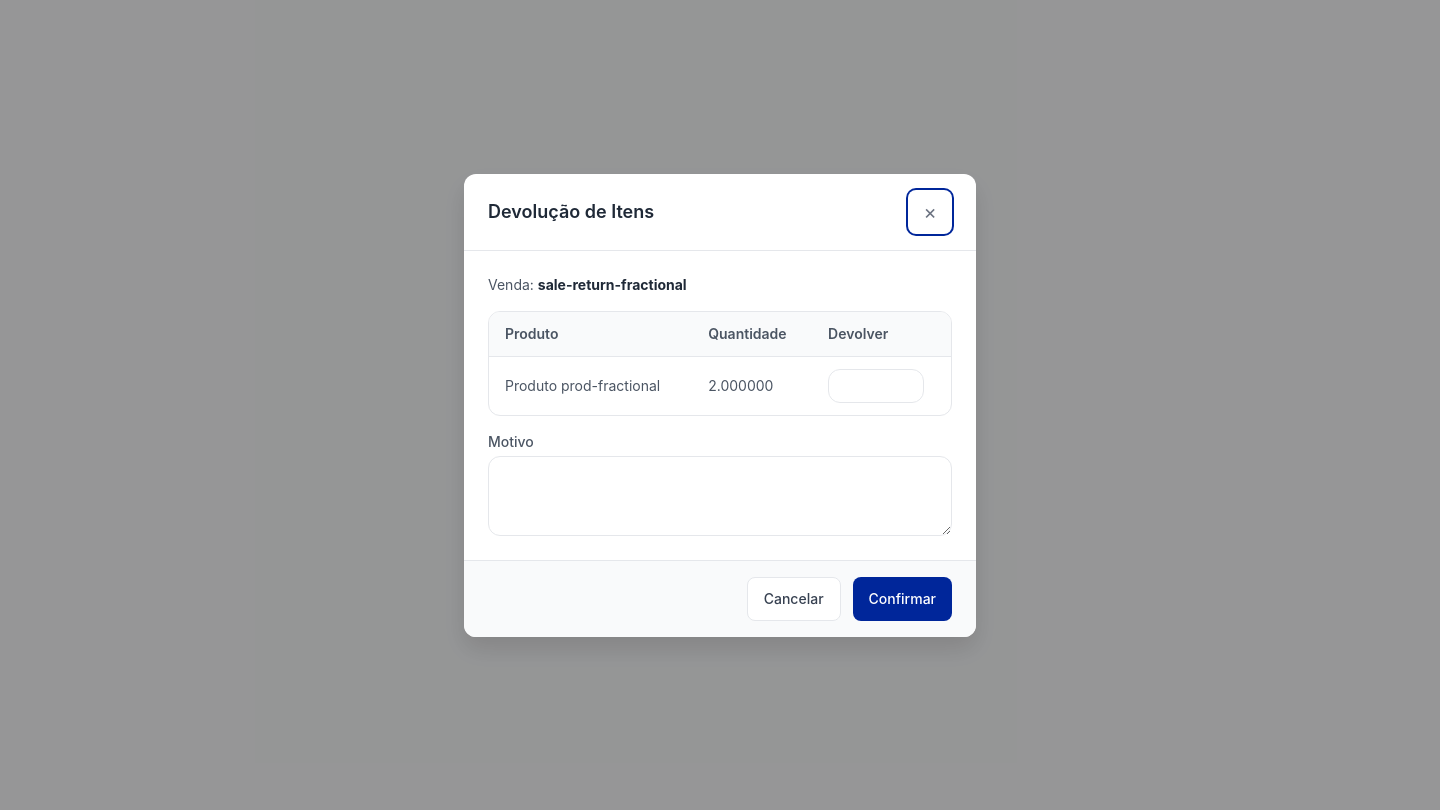
Test: ReturnDialog › supports fractional quantities at the backend precision without losing discounted credit
Type "0.5" into the number field with test id "return-qty-prod-fractional".
click(876, 386); type("0.5")  # box [828,368,924,402]
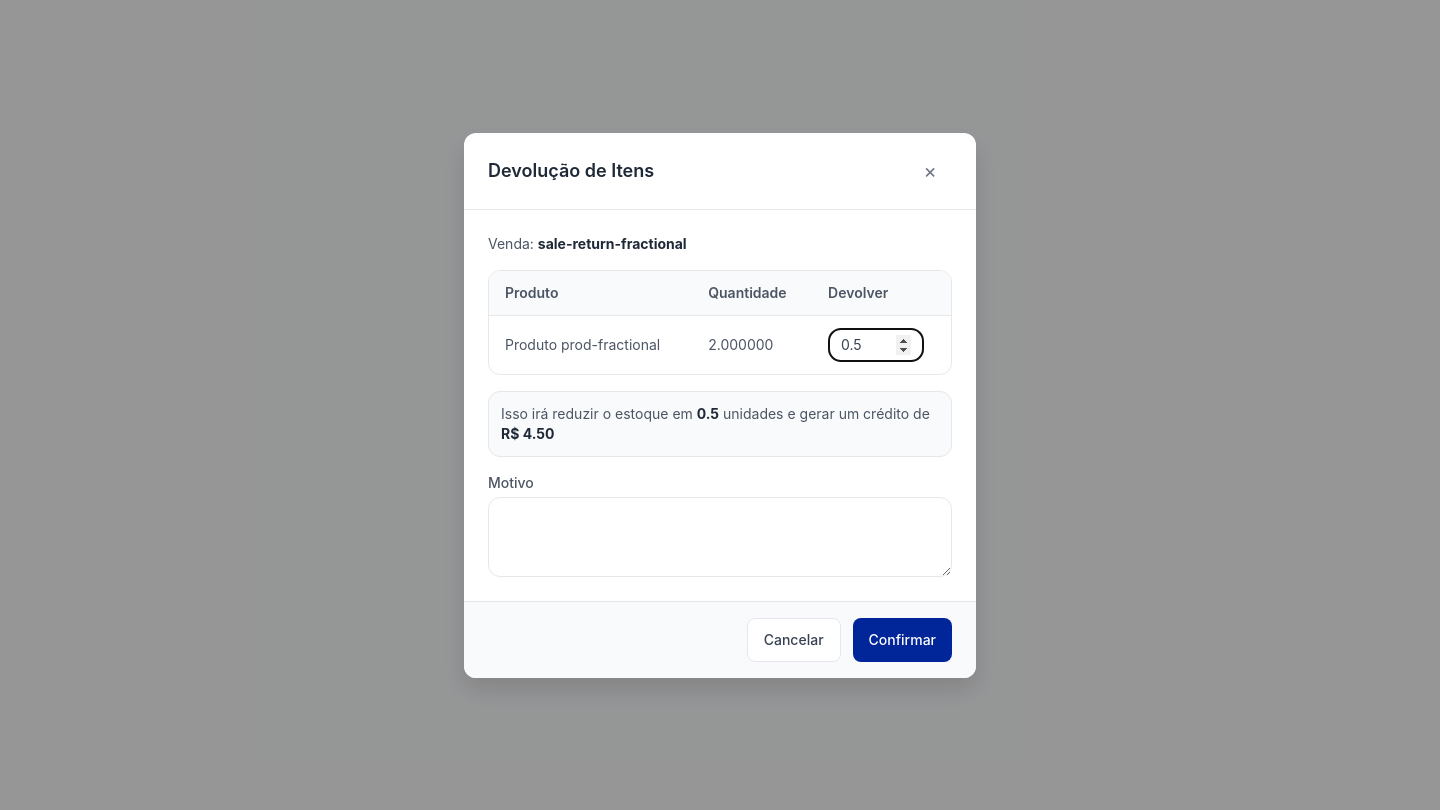
Expected: the element with test id "return-summary" shows "R$ 4.50", [488,390,952,456]
